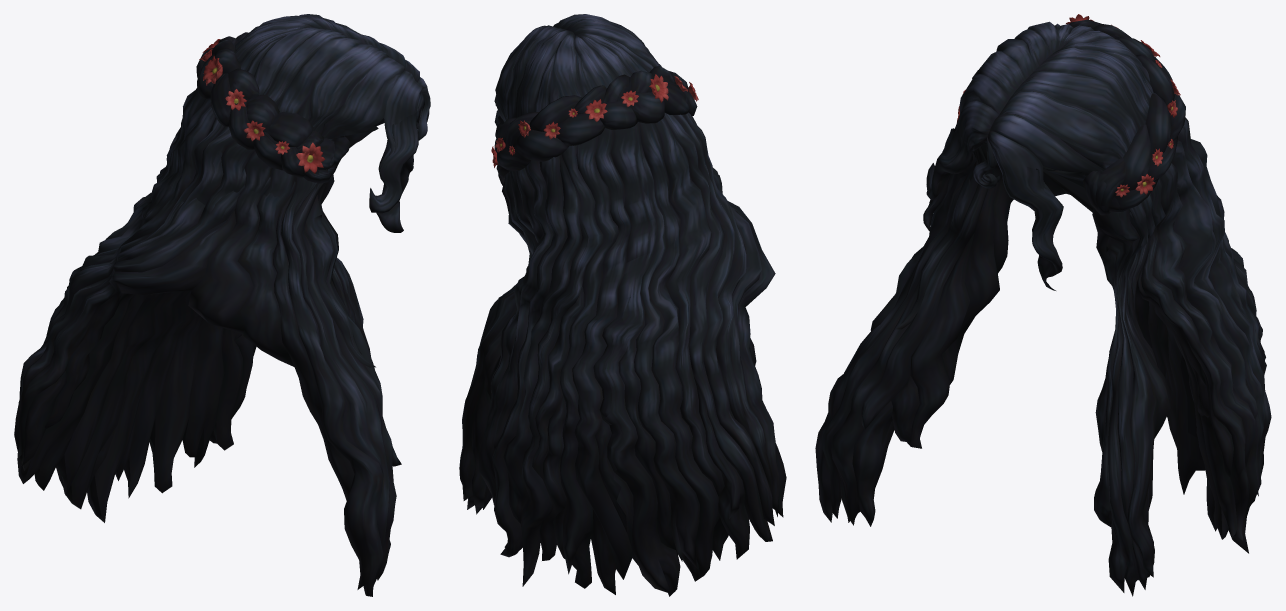
The model's file is Ondulado_1.glb.
3 views of the same model, side by side, from view 1: azimuth 30°, elevation 25°; view 2: azimuth 150°, elevation 25°; view 3: azimuth 270°, elevation 25° (orthographic). The views are drawn at different scales.
Parts seen in each view (by area): view 1: Nanako_Hair_mesh; view 2: Nanako_Hair_mesh; view 3: Nanako_Hair_mesh.
Boxes of the visible parts, box(x1,y1,x2,y2) form: Nanako_Hair_mesh: box(14, 14, 430, 596); Nanako_Hair_mesh: box(459, 14, 786, 596); Nanako_Hair_mesh: box(815, 14, 1271, 596).
Size of the model in its own units: 0.0519 by 0.0733 by 0.0566.
2 materials, 2 textured.
